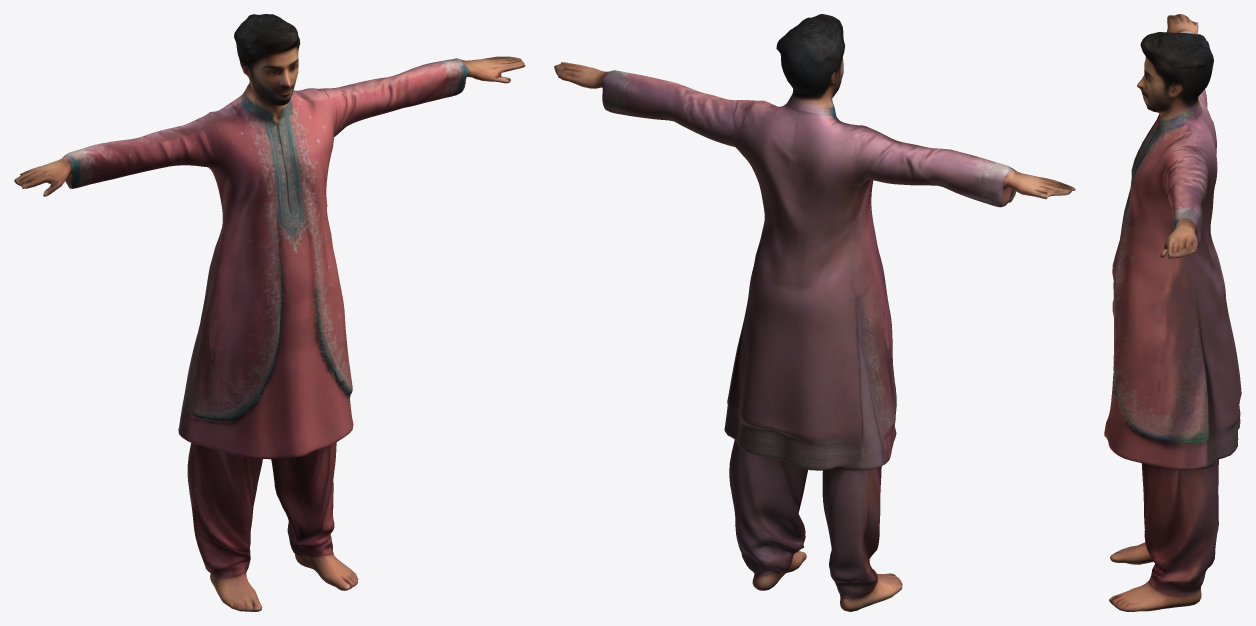
File: human.glb
3 renders of one model, left to right at view 1: azimuth 30°, elevation 25°; view 2: azimuth 150°, elevation 25°; view 3: azimuth 270°, elevation 25°, orthographic. The views are drawn at different scales.
Visible parts, largest first — view 1: Object_4; view 2: Object_4; view 3: Object_4.
Boxes of the visible parts, bbox=[...] form: Object_4: bbox=[14, 14, 525, 611]; Object_4: bbox=[554, 14, 1075, 611]; Object_4: bbox=[1104, 14, 1241, 611].
Size of the model in its own units: 1.89 by 2 by 0.4533.
Materials: 1 (1 with a texture image).
